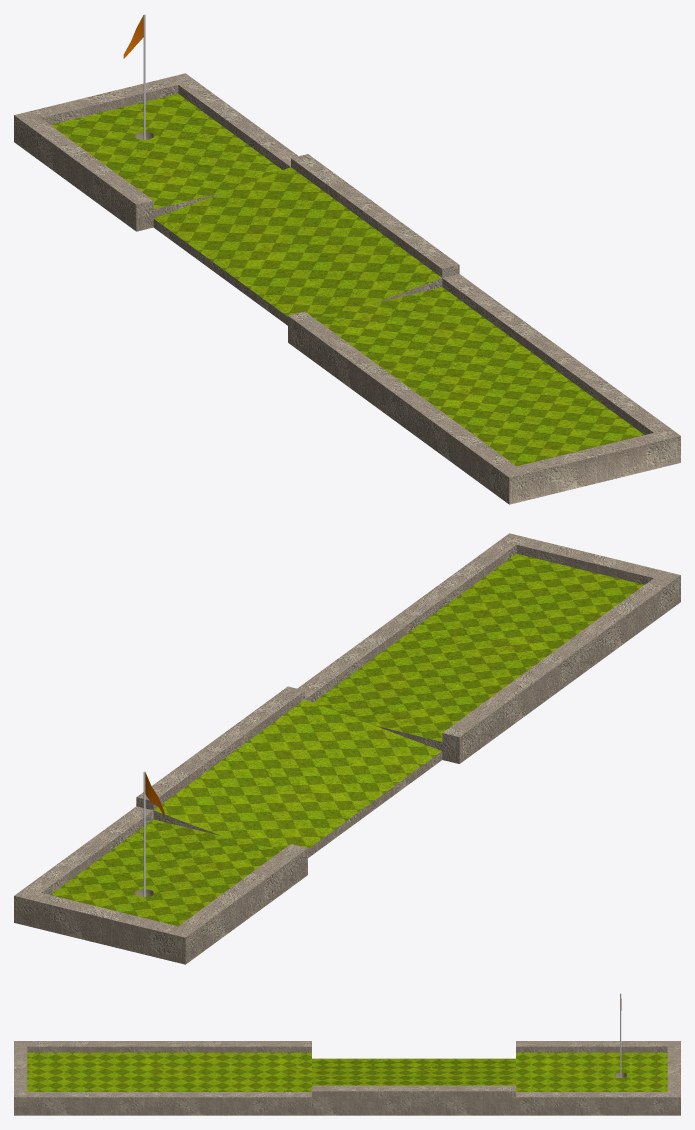
Rendered from course4_hole14.fbx.
3 views of the same model, one above another, from view 1: azimuth 30°, elevation 25°; view 2: azimuth 150°, elevation 25°; view 3: azimuth 270°, elevation 25° (orthographic). The views are drawn at different scales.
Visible parts, largest first — view 1: course4_hole14_ground, course4_hole14_walls; view 2: course4_hole14_ground, course4_hole14_walls, course4_hole14_flag; view 3: course4_hole14_walls, course4_hole14_ground.
Boxes of the visible parts, x1,y1,x2,y2 form: course4_hole14_ground: (51, 94, 644, 466); course4_hole14_walls: (14, 73, 680, 504); course4_hole14_ground: (51, 553, 643, 926); course4_hole14_walls: (14, 533, 680, 964); course4_hole14_flag: (143, 771, 164, 897); course4_hole14_walls: (14, 1041, 680, 1115); course4_hole14_ground: (27, 1052, 667, 1091).
Bounding box in the file's own units: 100 × 77.54 × 500.
